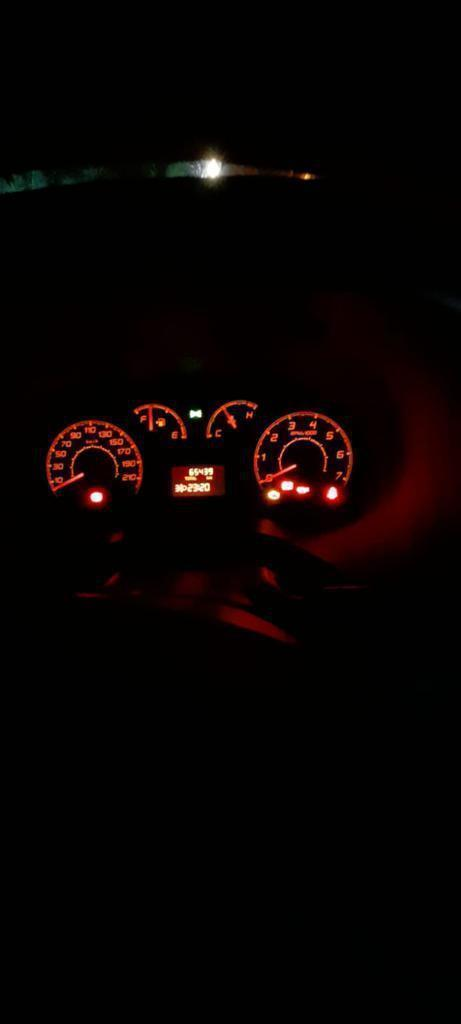0: (205, 482, 210, 491)
2: (199, 482, 204, 492), (187, 483, 192, 492)
3: (174, 483, 179, 492), (203, 467, 208, 475), (192, 483, 197, 491)
4: (198, 468, 203, 475)
5: (193, 467, 198, 476)
6: (188, 467, 193, 475)
9: (208, 467, 213, 475)
odometer: (169, 464, 224, 498)
